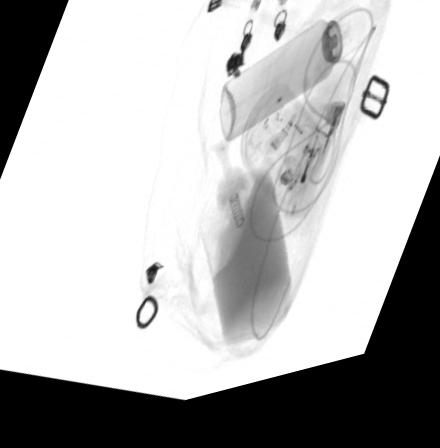Lighter: (283, 118, 347, 236)
Sprayer: (219, 21, 368, 153)
